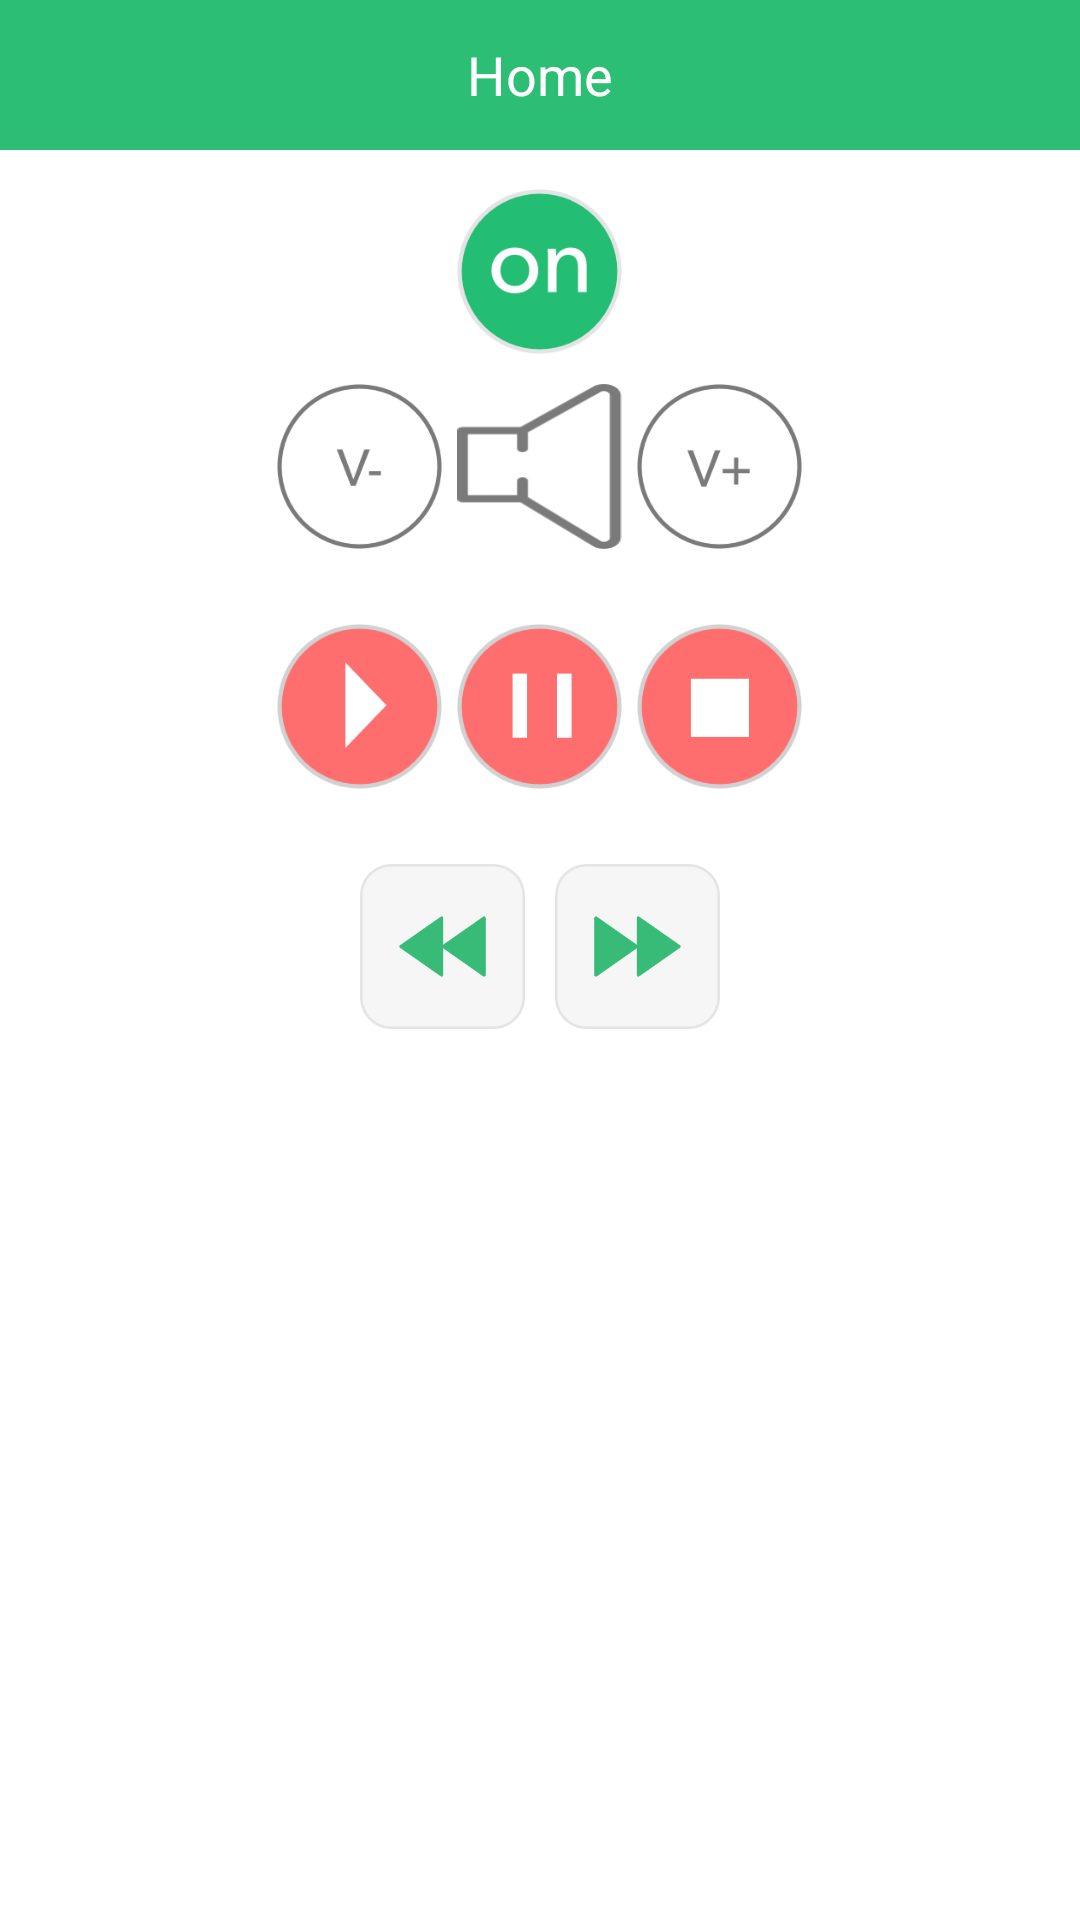

Where icons sit on this 1080*1920 app screen, as (x1,y1,x2,y2):
forward: (555,864,720,1029)
pause: (458,625,621,788)
play: (278,625,441,788)
rewind: (360,864,525,1029)
stop: (638,625,801,788)
toggle mute: (457,384,622,549)
volume down: (277,384,442,549)
volume up: (637,384,802,549)
